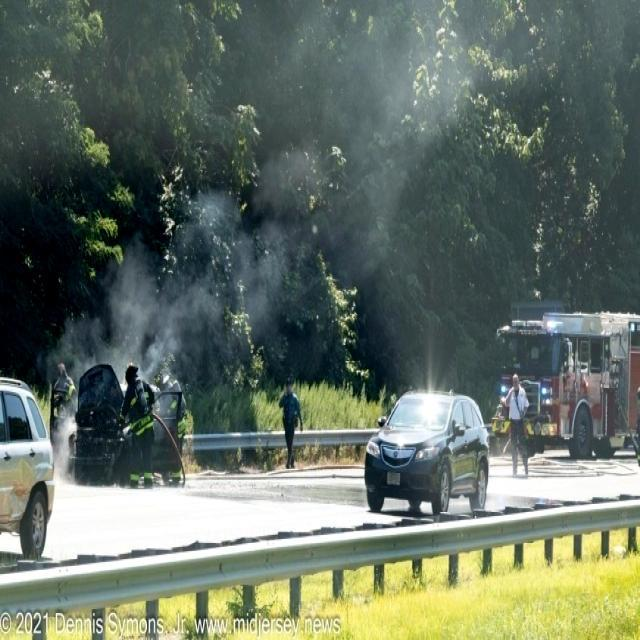Smoke: (84, 0, 574, 380)
